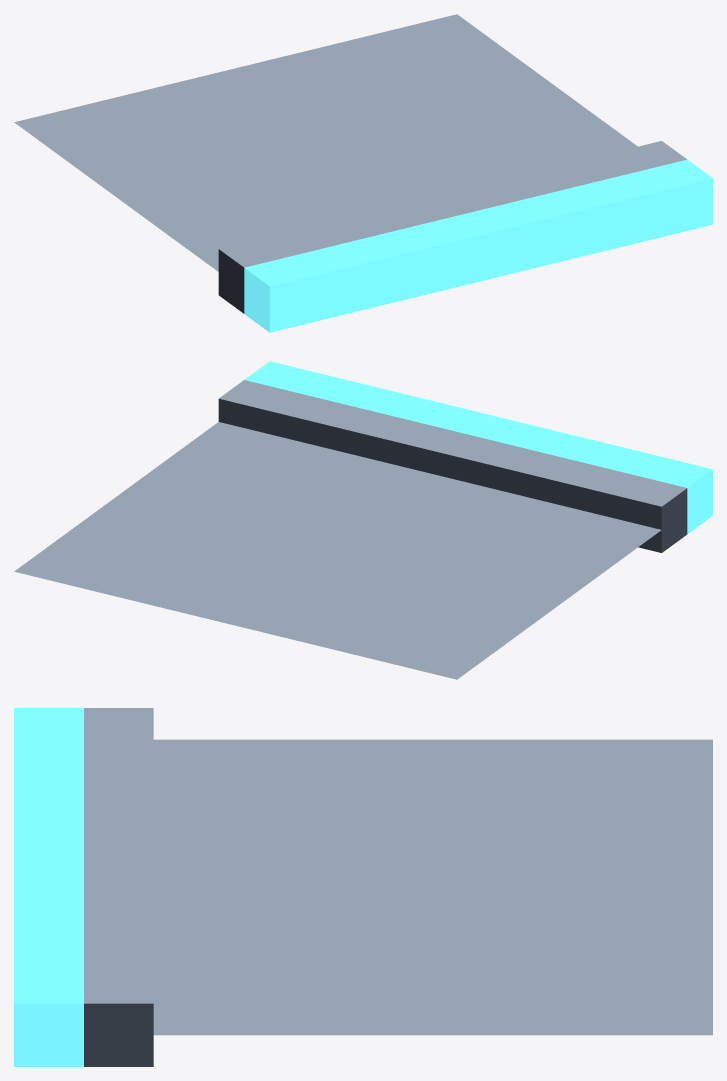
Rendered from platform_side.glb.
The picture shows the model from 3 angles, top to bottom: view 1: azimuth 30°, elevation 25°; view 2: azimuth 150°, elevation 25°; view 3: azimuth 270°, elevation 25°; orthographic projection. The views are drawn at different scales.
Parts seen in each view (by area): view 1: platform_side; view 2: platform_side; view 3: platform_side.
Part boxes in pixels (<box>): platform_side: <box>14,14,712,332</box>; platform_side: <box>14,361,712,679</box>; platform_side: <box>14,708,712,1066</box>.
Bounding box in the file's own units: 1 × 0.1 × 1.
